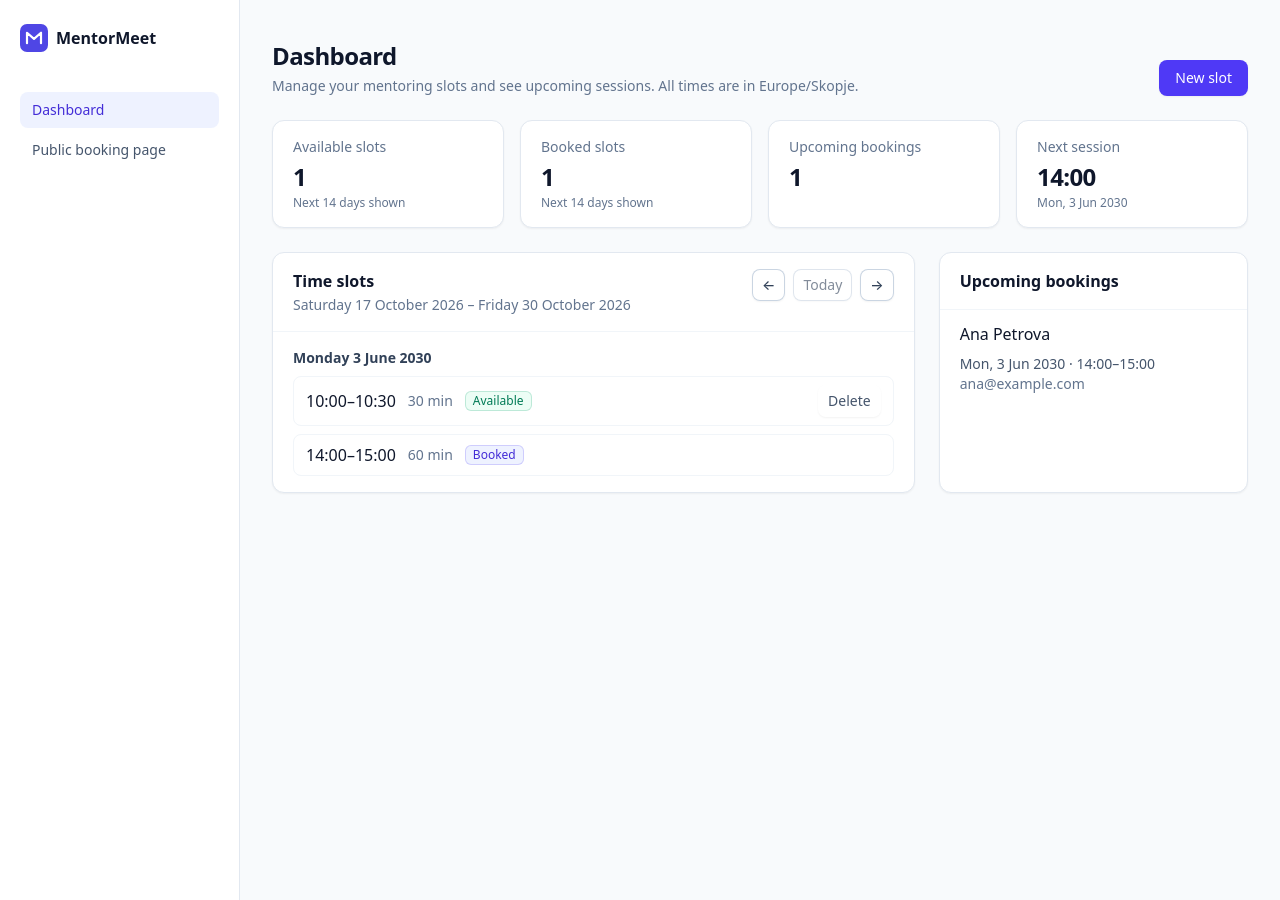
DashboardPage › explains when a slot was booked before it could be deleted
Expected: the text "10:00–10:30" is shown, [306,389,396,413]
What coordinates should you click on to do the following:
click the button with aria-label "Delete slot"
I would click on:
 (849, 401)
Its box is [818,385,881,417].
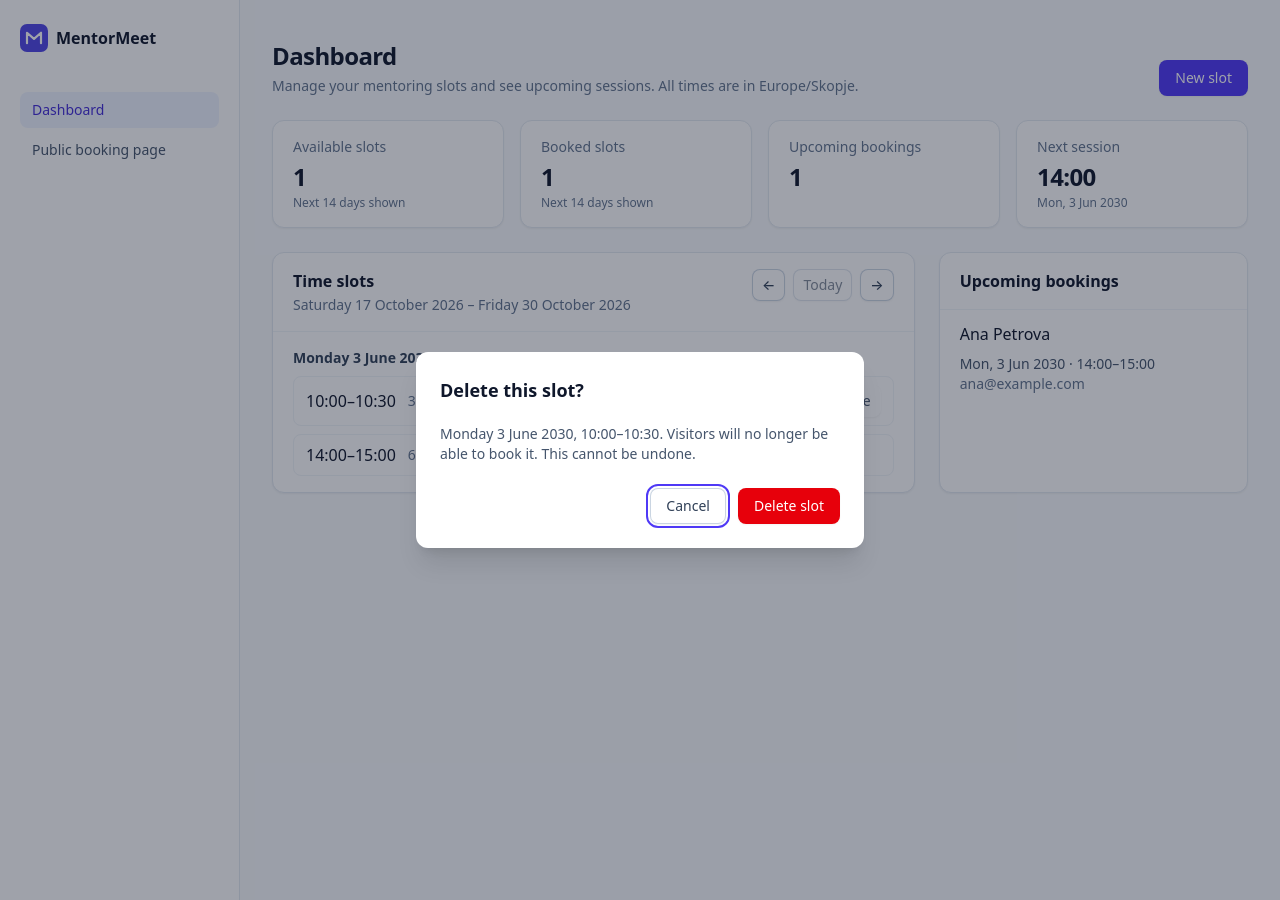
What coordinates should you click on to do the following:
click the button "Delete slot"
I would click on:
 (789, 506)
Its box is [738,488,840,524].
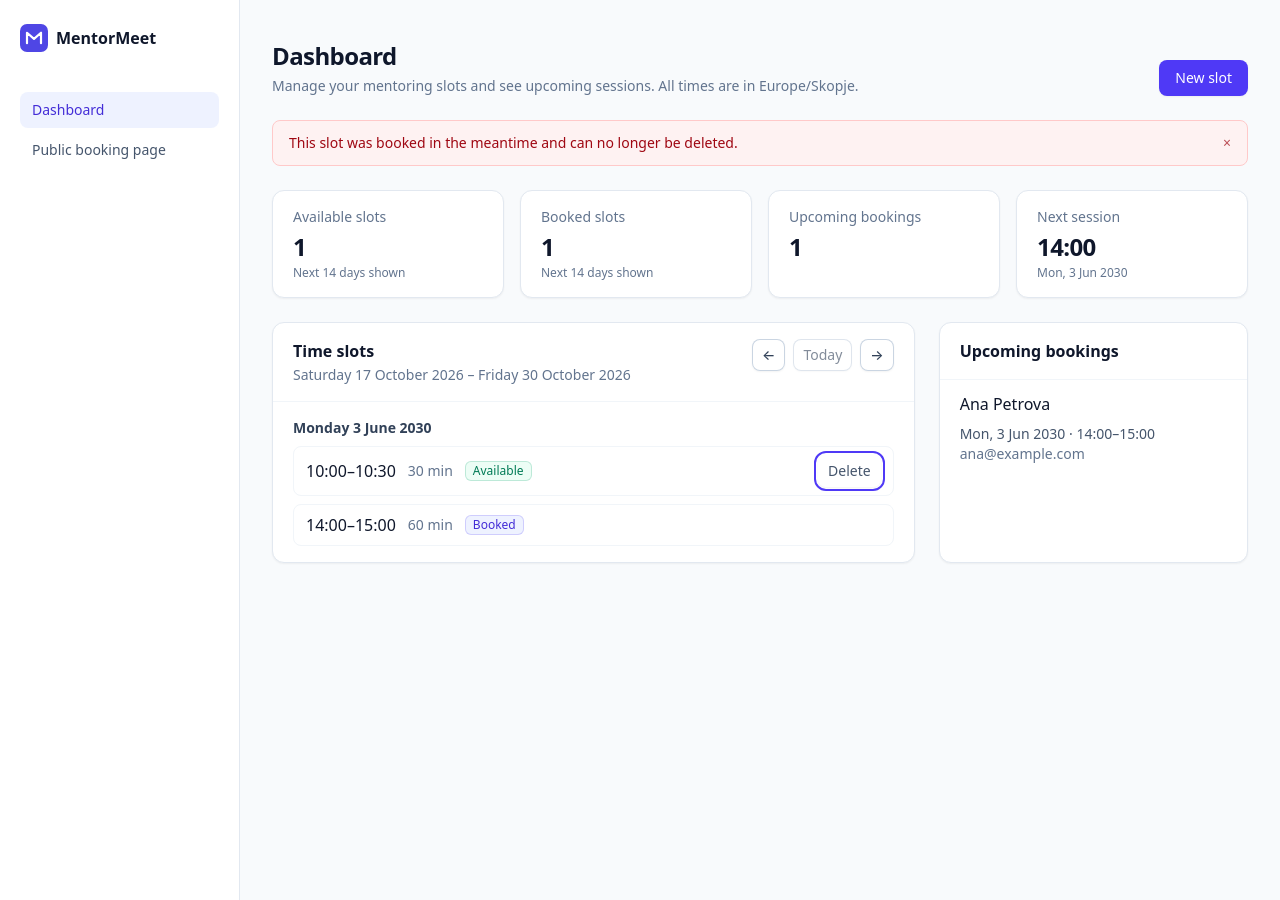
Now the text "This slot was booked in the meantime and can no longer be deleted." is shown, box [289,133,738,152]
